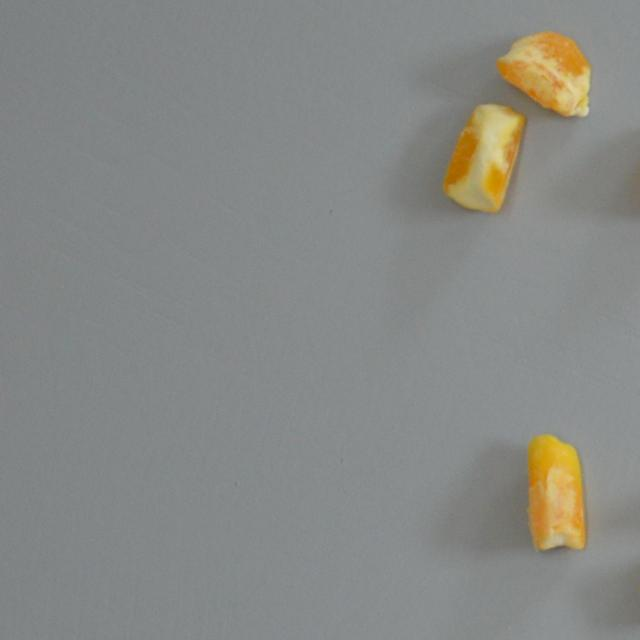no_desgerminado: (492, 28, 604, 125)
pelicula: (442, 100, 530, 217), (519, 432, 602, 556)
